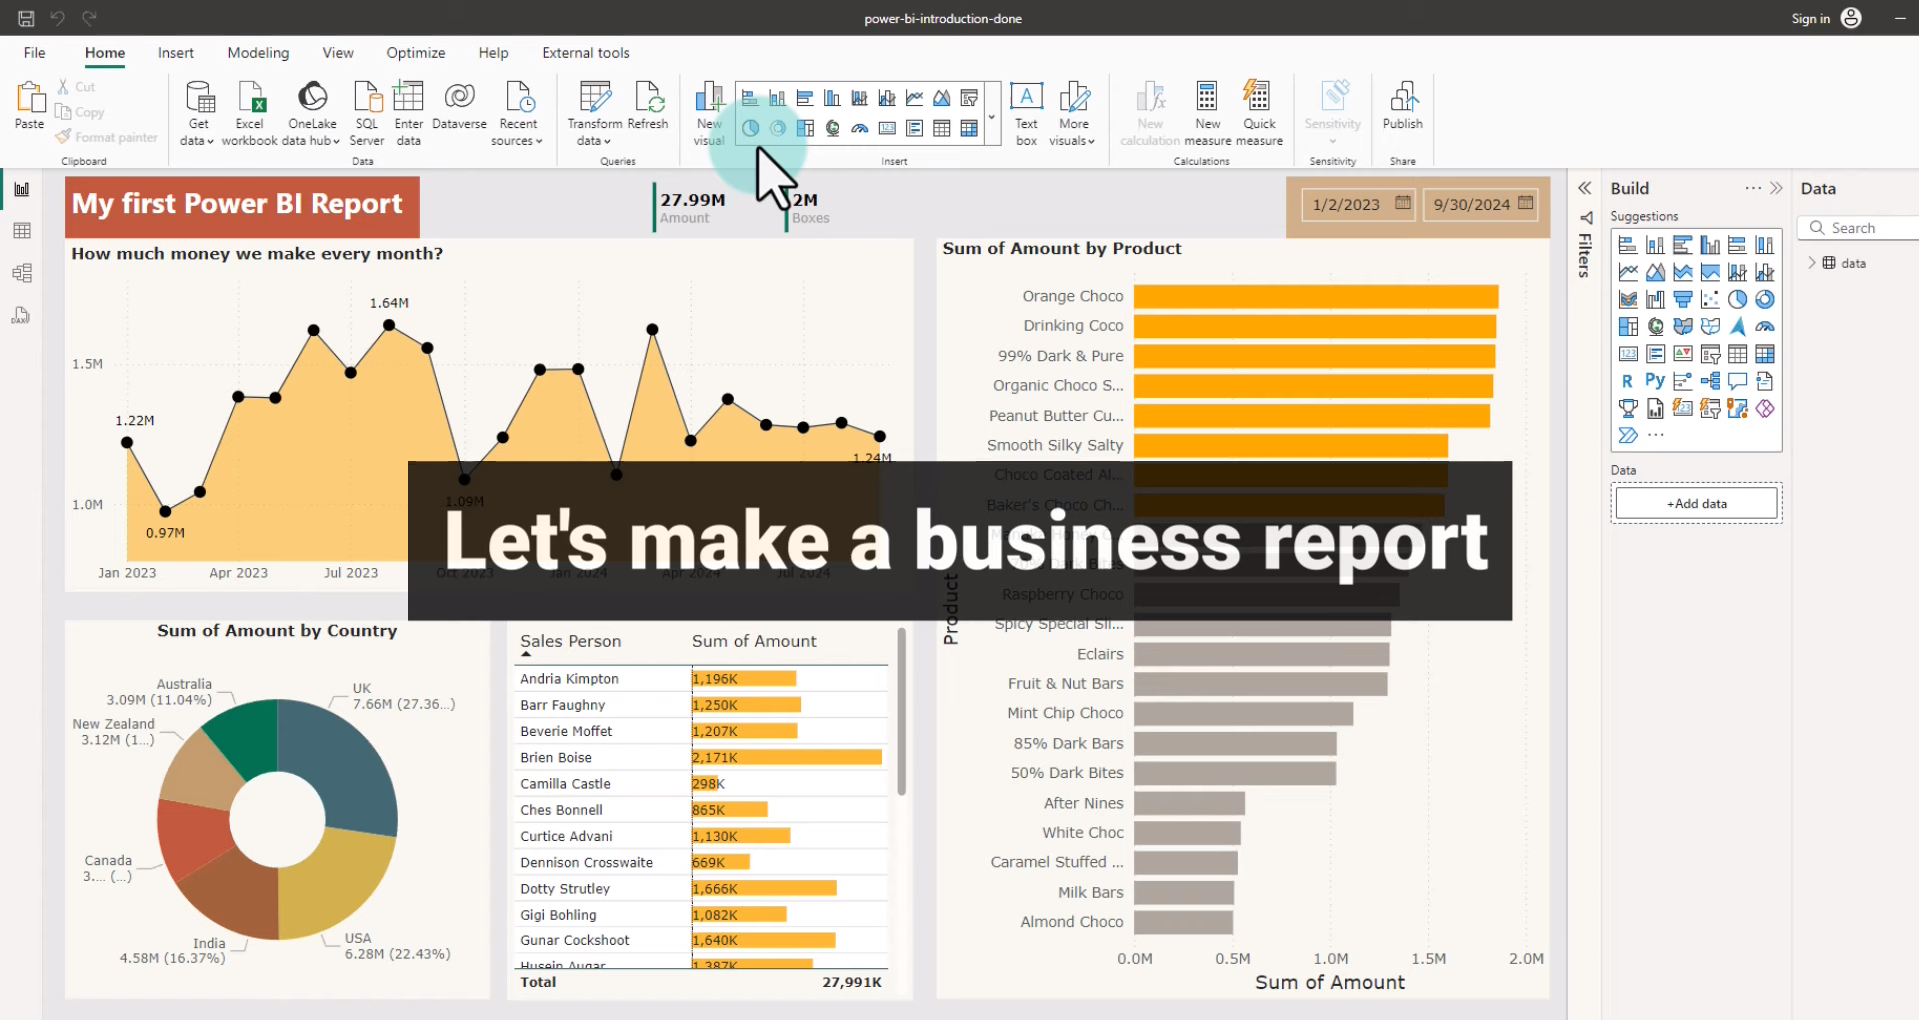

What the dashboard file says about the page in this screenshot:
{"tool":"powerbi","page":{"name":"Page 2","canvas":[1280,720],"ordinal":1},"visuals":[{"type":"lineChart","fields":{"Category":["data.Date.Variation.Date Hierarchy.Year","data.Date.Variation.Date Hierarchy.Quarter","data.Date.Variation.Date Hierarchy.Month","data.Date.Variation.Date Hierarchy.Day"],"Y":["Sum(data.Amount)"]},"box":[0,103.8,790,282.5],"z":0},{"type":"donutChart","fields":{"Category":["data.Country"],"Y":["Sum(data.Amount)"]},"box":[18.8,395,405,312.5],"z":1000},{"type":"tableEx","fields":{"Values":["data.Sales Person","Sum(data.Amount)"]},"box":[455,395,335,325],"z":2000},{"type":"clusteredBarChart","fields":{"Category":["data.Product"],"Y":["Sum(data.Amount)"]},"box":[808.8,103.8,471.2,616.2],"z":3000},{"type":"cardVisual","fields":{"Data":["Sum(data.Amount)","Sum(data.Boxes)"]},"box":[346.2,0,443.8,103.8],"z":4000},{"type":"slicer","fields":{"Values":["data.Date"]},"box":[808.8,5,471.2,90],"z":5000},{"type":"textbox","box":[8.8,5,327.5,63.8],"z":6000}]}

Visuals, with their boxes on the page's 1280x720 design canvas (x1, y1, x2, y2). These are canvas units, not pixel positions in the 1919x1020 screenshot, which may show the page scaled, cropped or inside an application window:
lineChart - data.Date.Variation.Date Hierarchy.Year x data.Date.Variation.Date Hierarchy.Quarter: bbox(0, 104, 790, 386)
donutChart - data.Country x Sum(data.Amount): bbox(19, 395, 424, 708)
tableEx - data.Sales Person x Sum(data.Amount): bbox(455, 395, 790, 720)
clusteredBarChart - data.Product x Sum(data.Amount): bbox(809, 104, 1280, 720)
cardVisual - Sum(data.Amount) x Sum(data.Boxes): bbox(346, 0, 790, 104)
slicer - data.Date: bbox(809, 5, 1280, 95)
textbox: bbox(9, 5, 336, 69)
